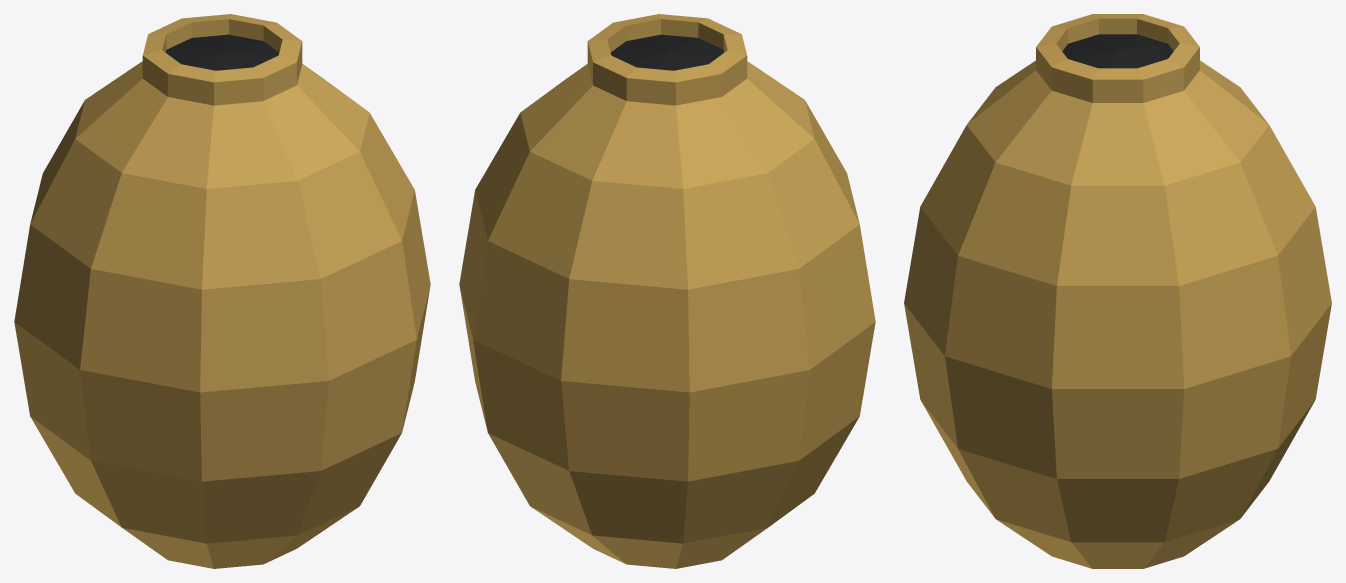
File: cast_bomb_shell.glb
3 renders of one model, left to right at view 1: azimuth 30°, elevation 25°; view 2: azimuth 150°, elevation 25°; view 3: azimuth 270°, elevation 25°, orthographic.
Parts seen in each view (by area): view 1: Sphere; view 2: Sphere; view 3: Sphere.
Boxes of the visible parts, x1,y1,x2,y2 form: Sphere: (14, 14, 430, 568); Sphere: (459, 14, 875, 568); Sphere: (904, 14, 1331, 568).
Bounding box in the file's own units: 0.2887 × 0.4004 × 0.3035.
